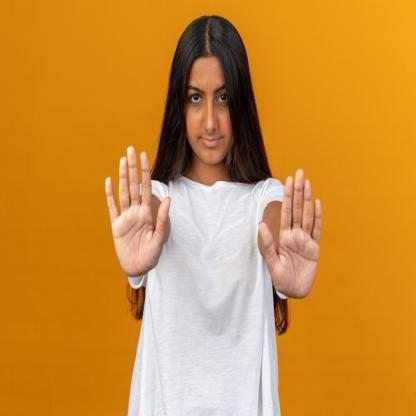stop: (102, 142, 172, 284), (257, 164, 324, 300)
